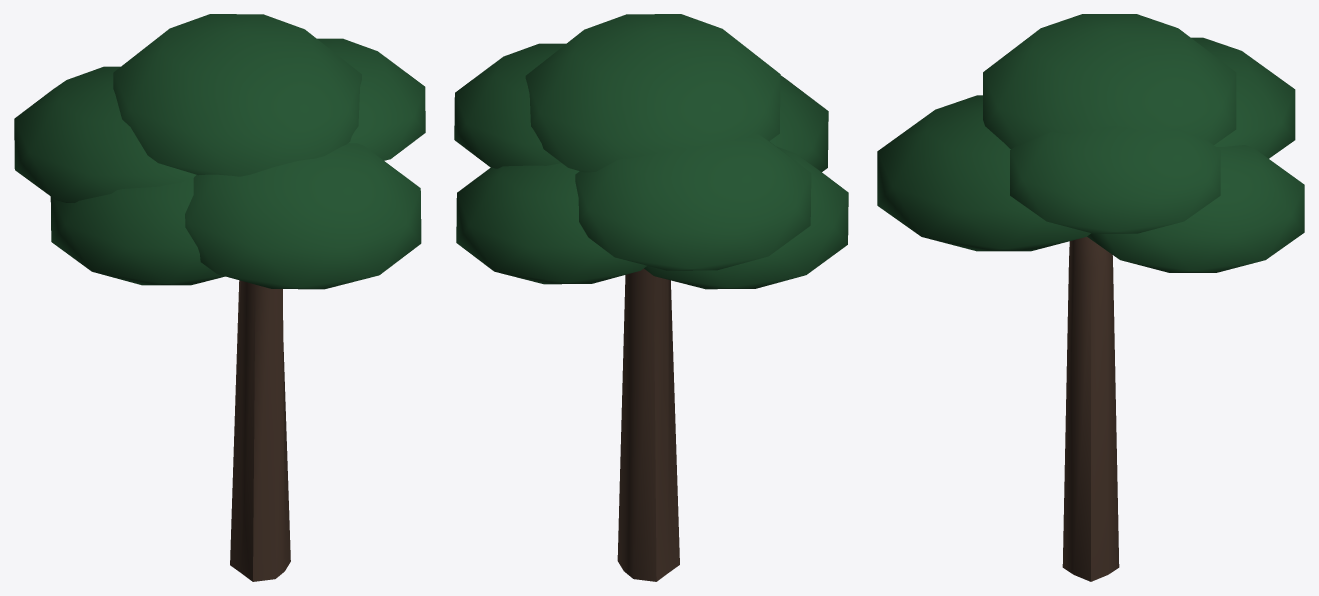
File: tree_round_b_far.glb
3 views of the same model, side by side, from view 1: azimuth 30°, elevation 25°; view 2: azimuth 150°, elevation 25°; view 3: azimuth 270°, elevation 25° (orthographic). The views are drawn at different scales.
Visible parts, largest first — view 1: body; view 2: body; view 3: body.
Boxes of the visible parts, <box> form: body: <box>14,14,425,581</box>; body: <box>454,14,848,581</box>; body: <box>877,14,1304,581</box>.
Size of the model in its own units: 2.86 by 4.14 by 3.02.
